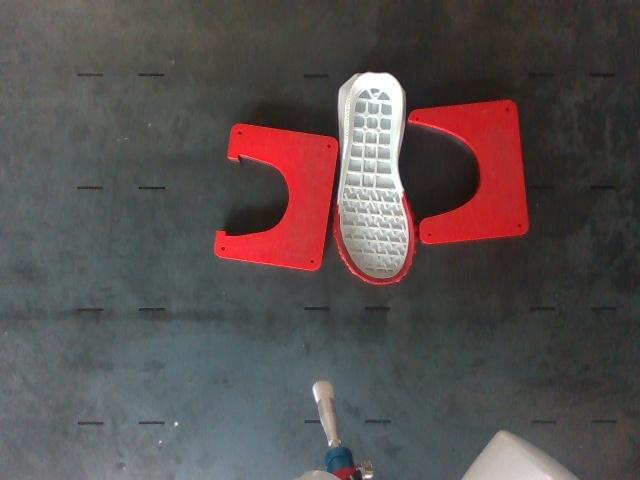shoes: (334, 73, 415, 284)
